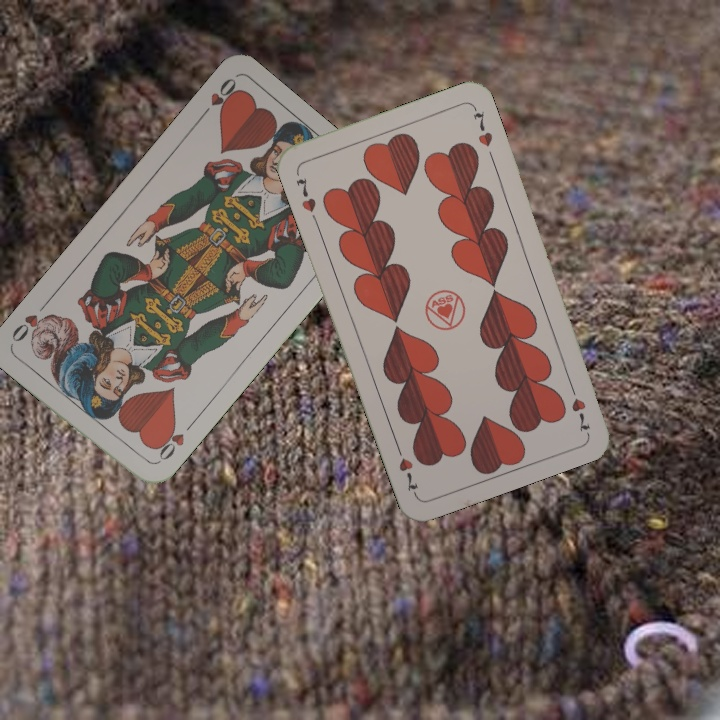H7: (565, 378, 593, 436), (291, 173, 321, 226)
HO: (194, 74, 242, 123), (150, 418, 197, 466)
